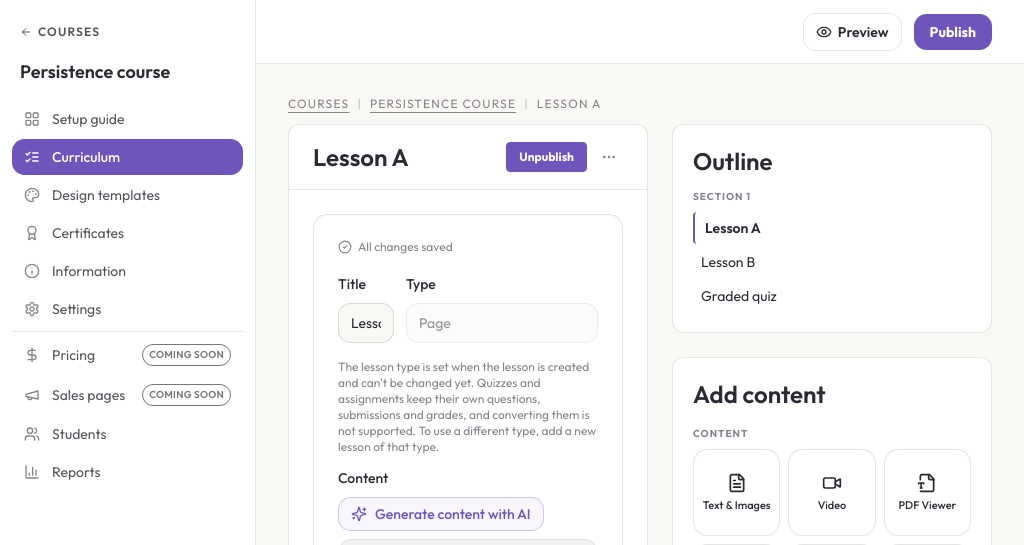
Test: CourseBuilder lesson persistence › P02: a rejected save is shown as not saved, keeps the draft, and retry persists it
Replace the text in the field labelled "Title" with "Never lose me": (366, 323) [338,303,394,343]
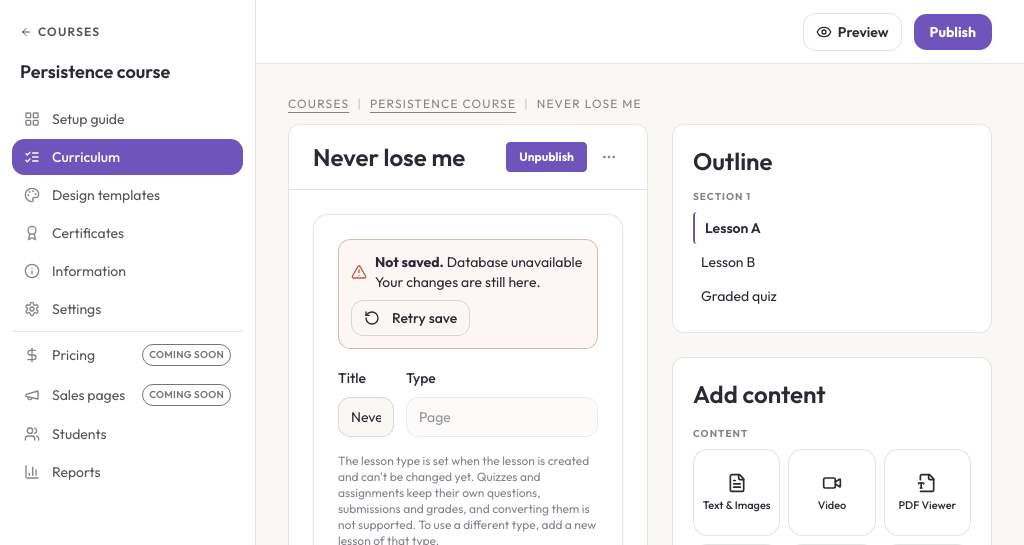
expect the text "Lesson A" is shown: met, box [705,219,761,237]
expect the message shows "Not saved": met, box [375,253,444,271]
expect the text "All changes saved" is gone: met
Click the button "Retry save": click(411, 318) [351,300,470,336]
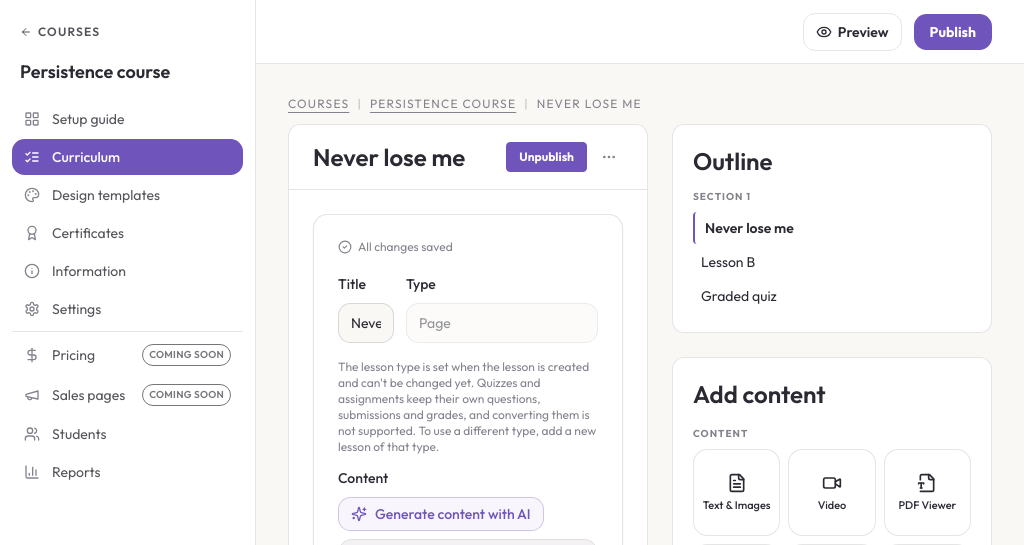
expect the text "All changes saved" is shown: met, box [338,239,453,254]
